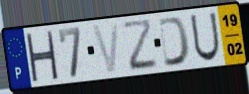7: (56, 25, 83, 80)
D: (157, 15, 192, 69)
H: (24, 31, 60, 83)
U: (188, 11, 222, 64)
V: (90, 21, 121, 75)
Z: (120, 17, 160, 74)
